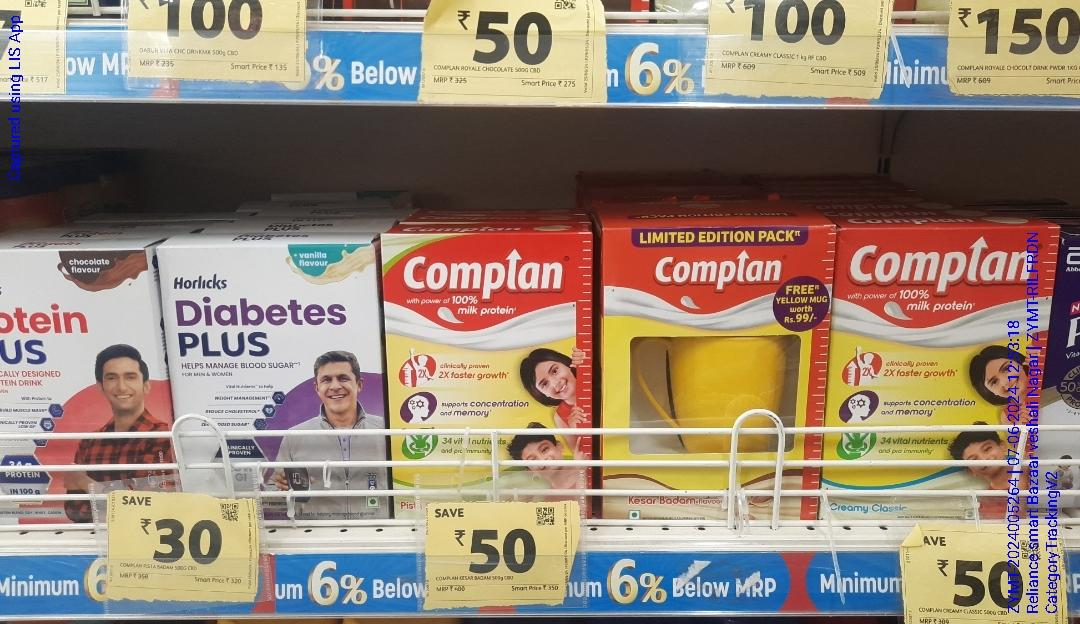COMPLAN_KESAR_BADAM_500_GMS_PACK: (839, 230, 1039, 524)
COMPLAN_PISTA_BADAM_500_GMS_PACK: (383, 231, 592, 511)
